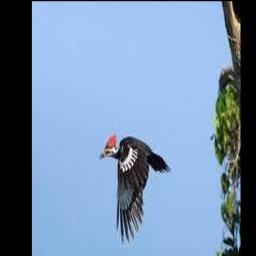Woodpecker: (99, 133, 171, 243)
